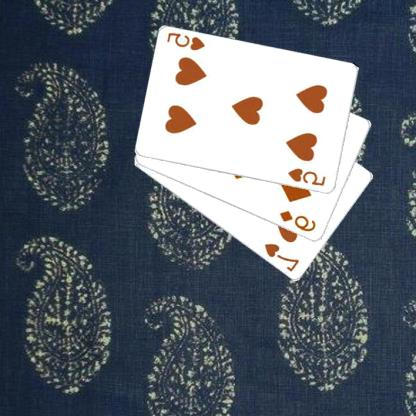5H: (166, 30, 208, 52), (287, 166, 329, 187)
6D: (279, 208, 319, 233)
7H: (263, 241, 303, 274)
